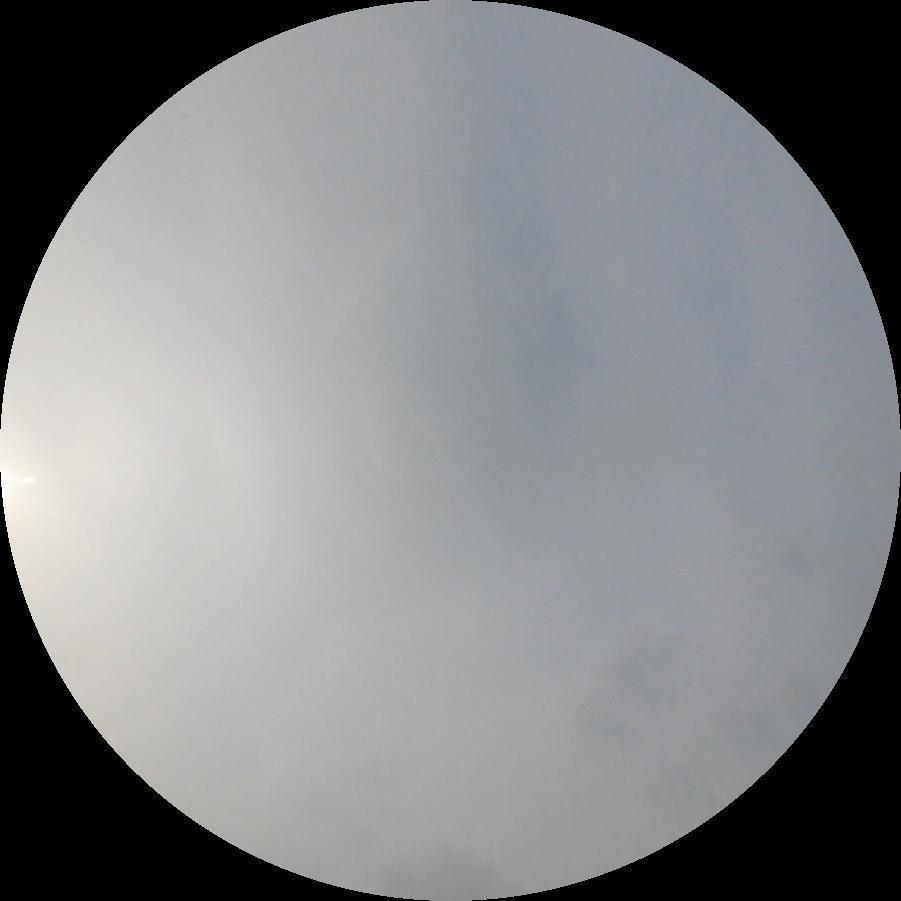contrail old: (205, 139, 512, 541)
